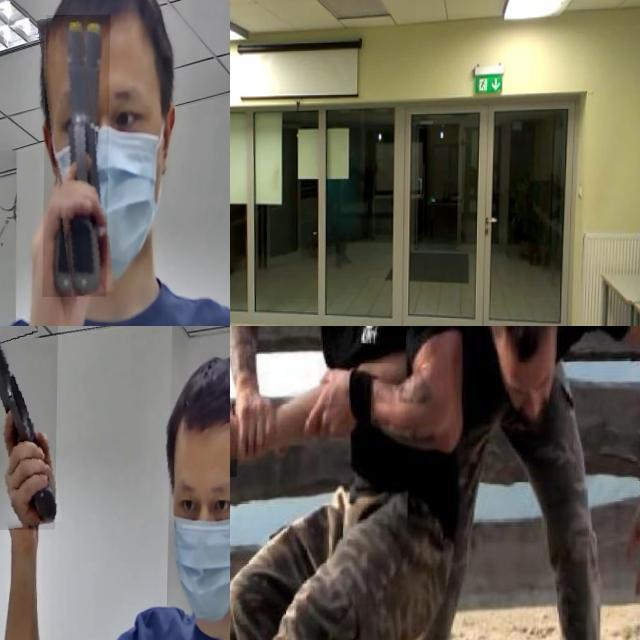-: (230, 402, 277, 477)
gun-knife-thesis - v11 Yolov5 augmented: (44, 16, 110, 298), (0, 326, 59, 530), (230, 185, 248, 237)
